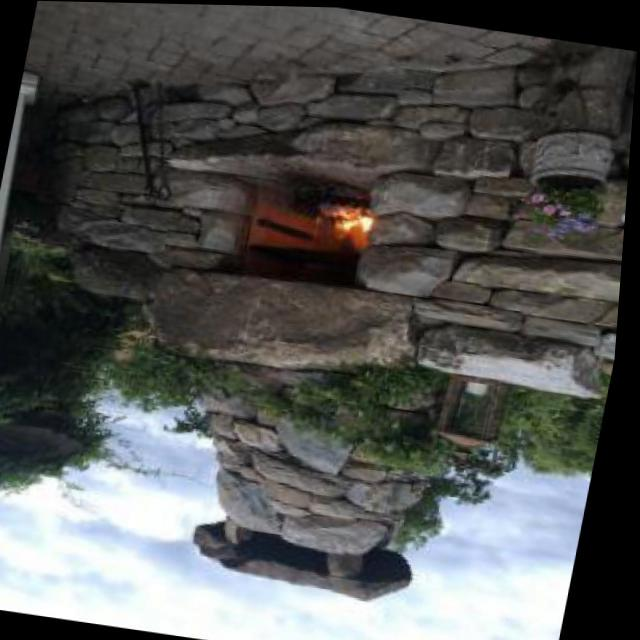fire: (319, 202, 393, 260)
